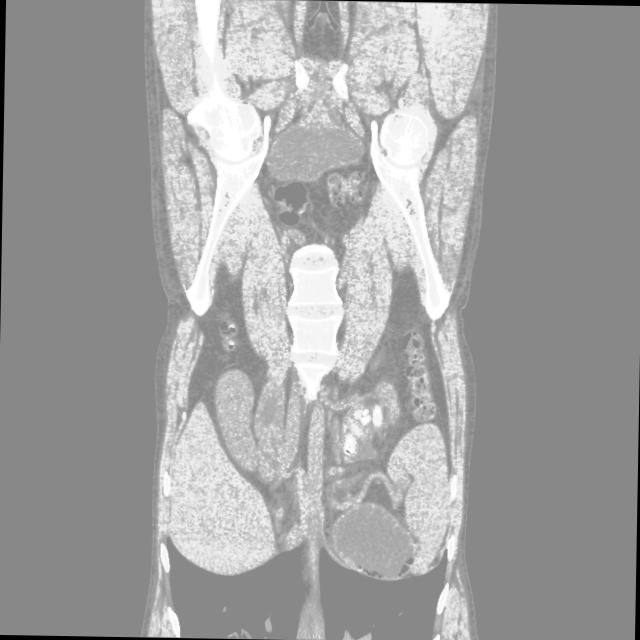STONE: (106, 249, 483, 481)
